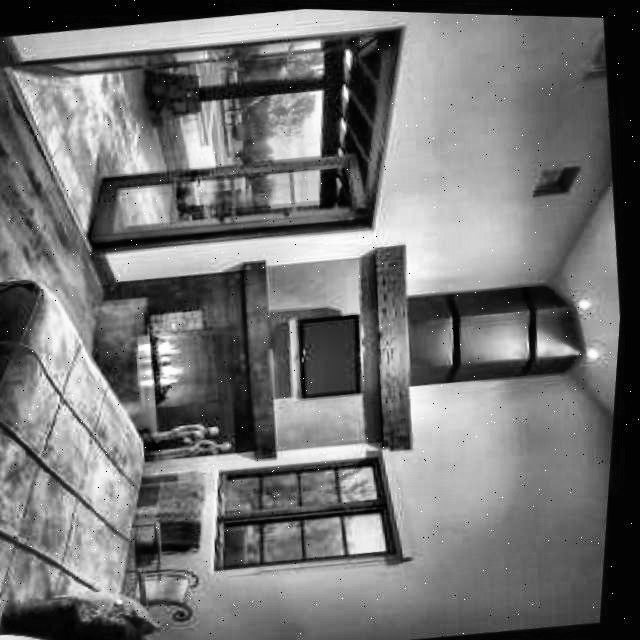Fire: (147, 318, 193, 388)
